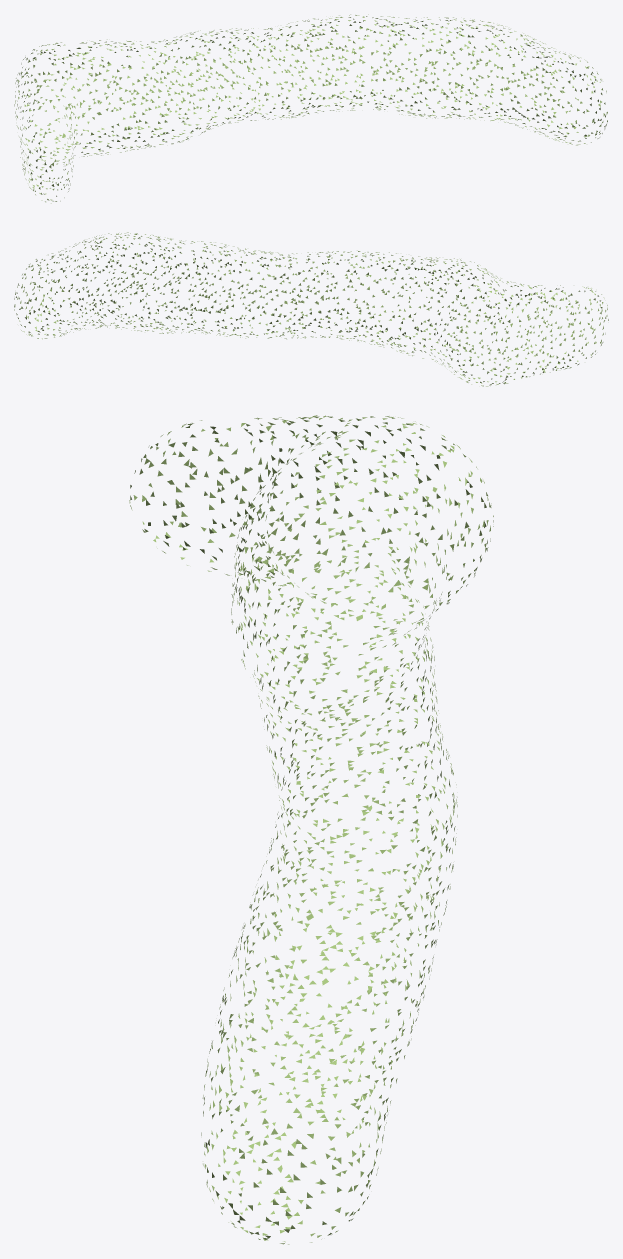
Rendered from morph_012.glb.
3 renders of one model, top to bottom at view 1: azimuth 30°, elevation 25°; view 2: azimuth 150°, elevation 25°; view 3: azimuth 270°, elevation 25°, orthographic. The views are drawn at different scales.
Bounding box in the file's own units: 137 × 44.07 × 39.31.
